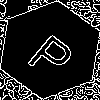P: (25, 25, 83, 82)
